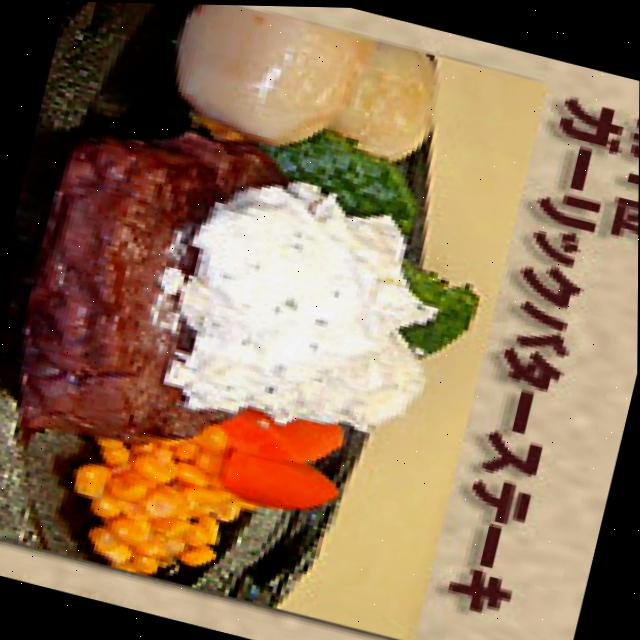牛肉菜式: (0, 88, 361, 484)
